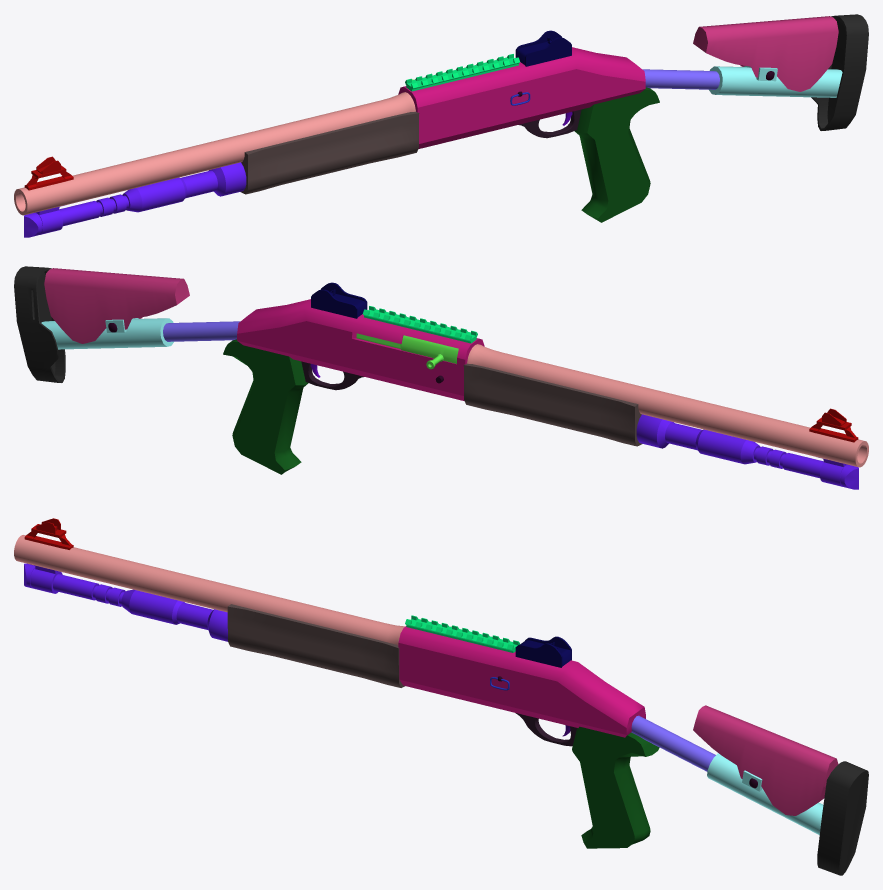
File: m1014withUV_And_Matsv1.FBX
3 views of the same model, one above another, from view 1: azimuth 30°, elevation 25°; view 2: azimuth 150°, elevation 25°; view 3: azimuth 330°, elevation 25° (orthographic).
Parts seen in each view (by area): view 1: Frame, Barrel, Slide, StockPad, Grib, UnderBarrel, ShoulderStock, BigStock, Stock, Rail, Sight, FrontSights (+1 smaller); view 2: Frame, Barrel, Slide, StockPad, Grib, UnderBarrel, ShoulderStock, BigStock, Rail, Stock, Sight, LoadingMechanism (+2 smaller); view 3: Frame, Barrel, StockPad, Slide, Grib, UnderBarrel, ShoulderStock, BigStock, Stock, Rail, Sight, FrontSights.
Boxes of the visible parts, x1,y1,x2,y2 form: Frame: [398, 47, 645, 148]; Barrel: [14, 92, 415, 215]; Slide: [240, 111, 419, 194]; StockPad: [693, 16, 838, 91]; Grib: [574, 87, 659, 222]; UnderBarrel: [24, 162, 246, 237]; ShoulderStock: [811, 14, 868, 130]; BigStock: [709, 66, 842, 97]; Stock: [642, 69, 719, 89]; Rail: [405, 54, 519, 91]; Sight: [515, 30, 571, 66]; FrontSights: [24, 156, 73, 190]; Frame: [237, 299, 484, 400]; Barrel: [467, 344, 868, 467]; Slide: [463, 363, 642, 446]; StockPad: [44, 268, 189, 343]; Grib: [223, 339, 308, 474]; UnderBarrel: [636, 414, 858, 489]; ShoulderStock: [14, 266, 65, 382]; BigStock: [41, 318, 173, 349]; Rail: [363, 306, 477, 343]; Stock: [163, 321, 240, 341]; Sight: [311, 282, 367, 318]; LoadingMechanism: [356, 333, 458, 369]; Frame: [398, 626, 645, 737]; Barrel: [14, 535, 405, 645]; StockPad: [693, 705, 838, 815]; Slide: [227, 604, 405, 687]; Grib: [572, 726, 659, 848]; UnderBarrel: [24, 563, 227, 641]; ShoulderStock: [817, 761, 868, 875]; BigStock: [707, 753, 823, 834]; Stock: [631, 715, 715, 771]; Rail: [405, 615, 519, 652]; Sight: [515, 636, 571, 667]; FrontSights: [24, 518, 73, 549].
Bounding box in the file's own units: 209 × 45.75 × 13.54.
